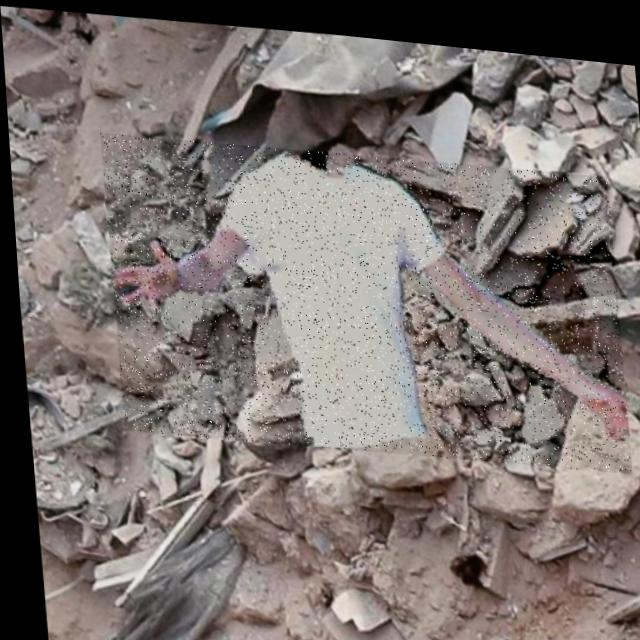Person in Rubble: (97, 121, 627, 469)
